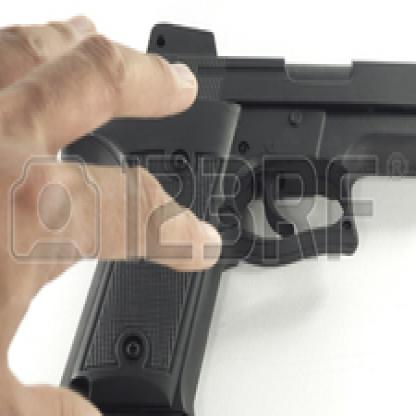gun: (41, 3, 414, 413)
